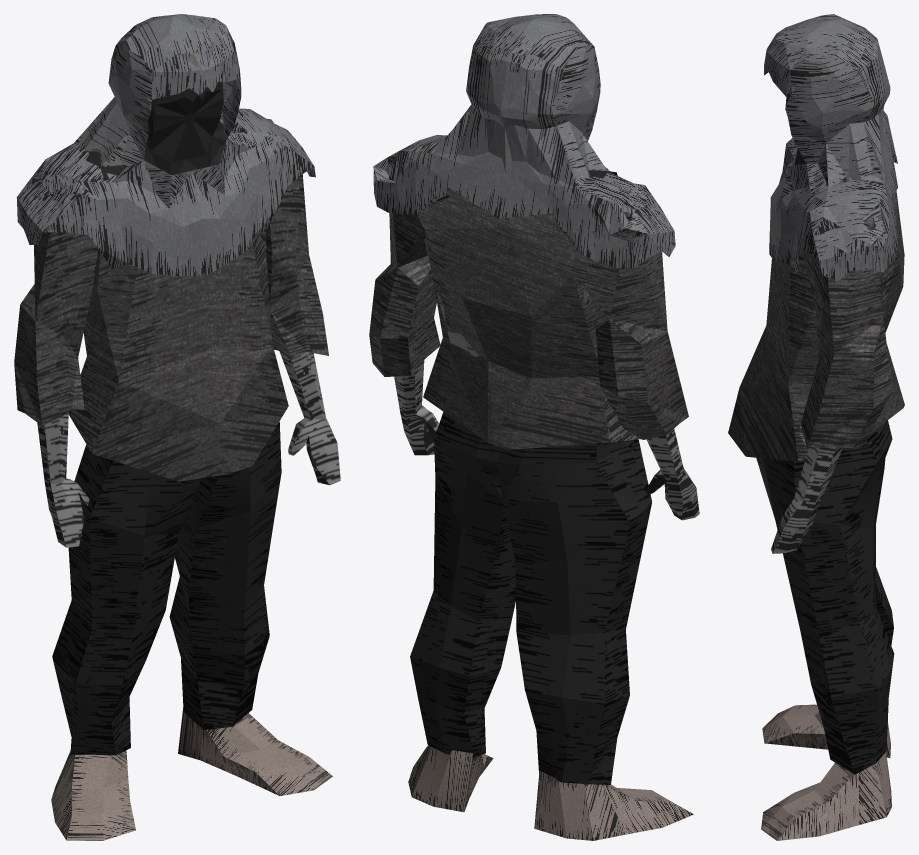
The model's file is playermodel.fbx.
3 renders of one model, left to right at view 1: azimuth 30°, elevation 25°; view 2: azimuth 150°, elevation 25°; view 3: azimuth 270°, elevation 25°, orthographic. The views are drawn at different scales.
Visible parts, largest first — view 1: skirt thingy, Pants, hood, Shoes, Body, hood inside; view 2: Pants, skirt thingy, hood, Shoes, Body; view 3: hood, skirt thingy, Pants, Shoes, Body.
Part boxes in pixels (<box>): skirt thingy: <box>14,111,328,481</box>; Pants: <box>52,421,281,755</box>; hood: <box>16,14,315,276</box>; Shoes: <box>51,708,332,840</box>; Body: <box>37,352,340,547</box>; hood inside: <box>86,81,246,181</box>; Pants: <box>410,412,651,784</box>; skirt thingy: <box>369,153,688,449</box>; hood: <box>373,14,675,268</box>; Shoes: <box>408,745,693,840</box>; Body: <box>394,238,699,520</box>; hood: <box>764,14,898,281</box>; skirt thingy: <box>728,155,904,461</box>; Pants: <box>756,420,894,774</box>; Shoes: <box>761,704,891,840</box>; Body: <box>771,447,842,553</box>.
Bounding box in the file's own units: 195 × 489 × 103.
Materials: 6 (6 with a texture image).
